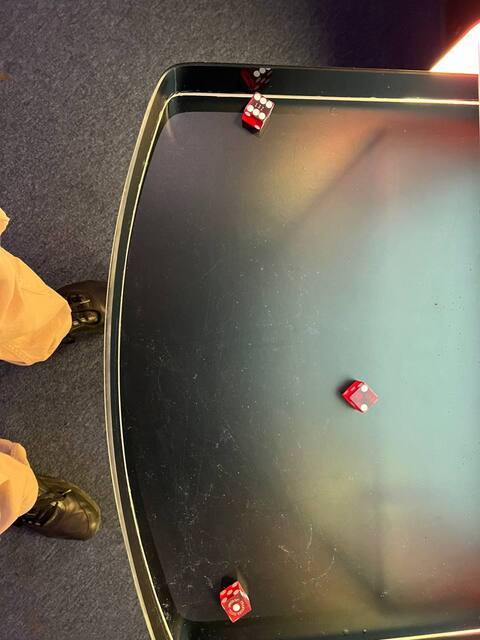one: (222, 593, 252, 624)
six: (242, 89, 277, 124)
two: (349, 381, 381, 414)
